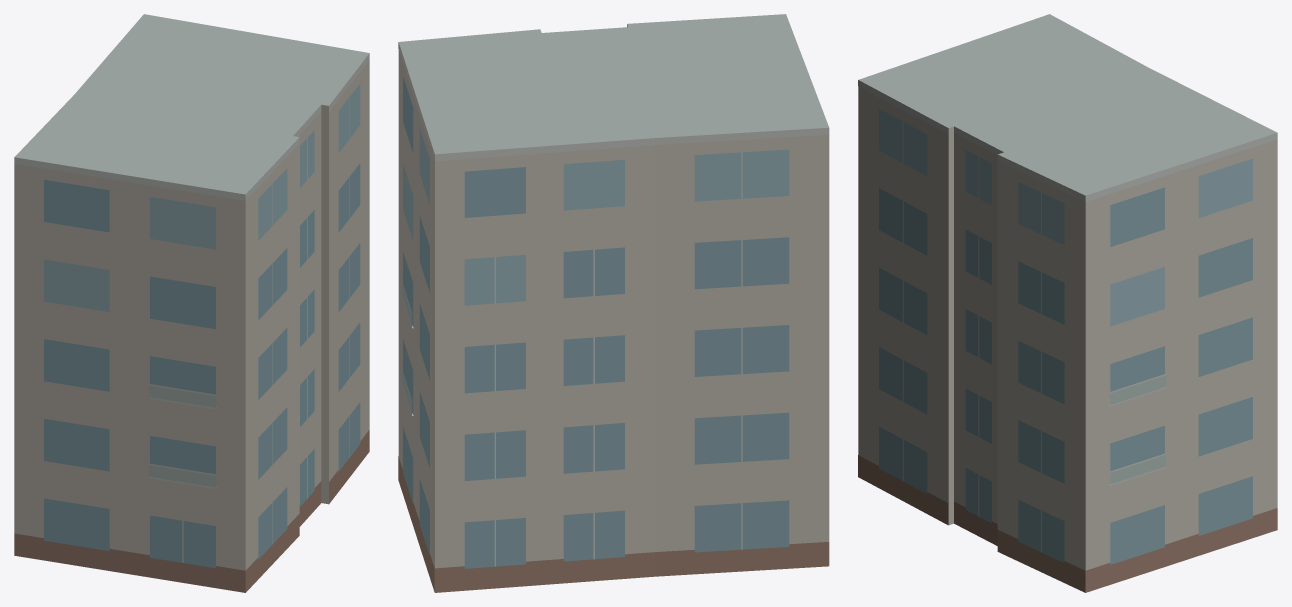
File: survey-upis-33000970.glb
3 views of the same model, side by side, from view 1: azimuth 30°, elevation 25°; view 2: azimuth 150°, elevation 25°; view 3: azimuth 270°, elevation 25° (orthographic). The views are drawn at different scales.
Visible parts, largest first — view 1: survey-upis-33000970.tmp; view 2: survey-upis-33000970.tmp; view 3: survey-upis-33000970.tmp.
Boxes of the visible parts, box(x1,y1,x2,y2) form: survey-upis-33000970.tmp: box(14, 14, 369, 592); survey-upis-33000970.tmp: box(398, 14, 829, 592); survey-upis-33000970.tmp: box(858, 14, 1277, 592).
Size of the model in its own units: 14.96 by 15.25 by 14.6.
